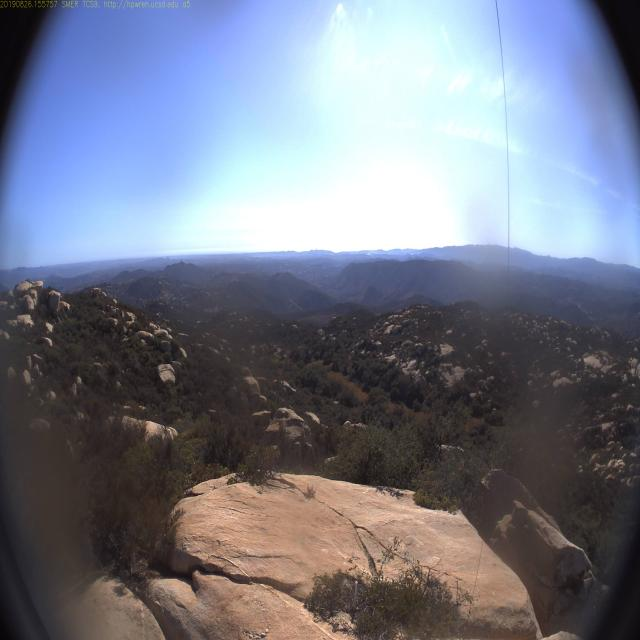smoke: (409, 248, 419, 259), (362, 250, 373, 258)
